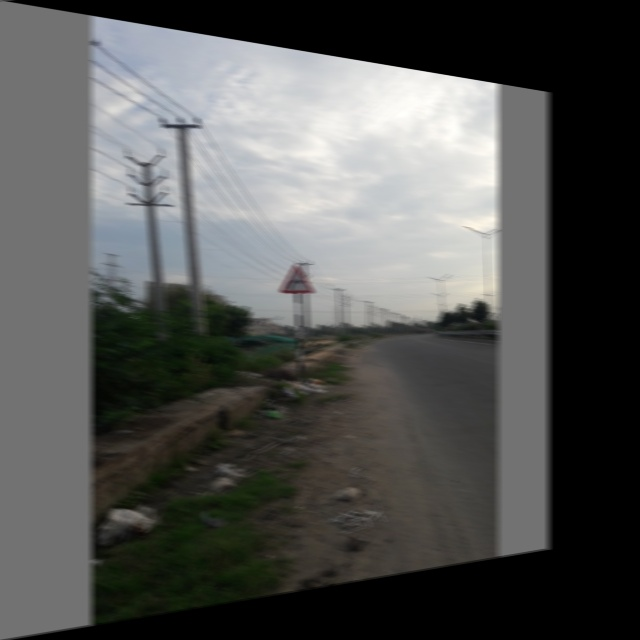Right_Hand_Curve: (280, 262, 314, 299)
